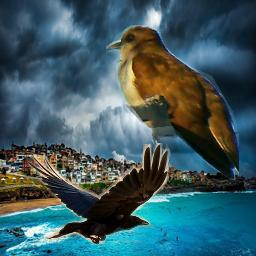Crow: (25, 143, 171, 245)
Cuckoo: (106, 25, 239, 183)
